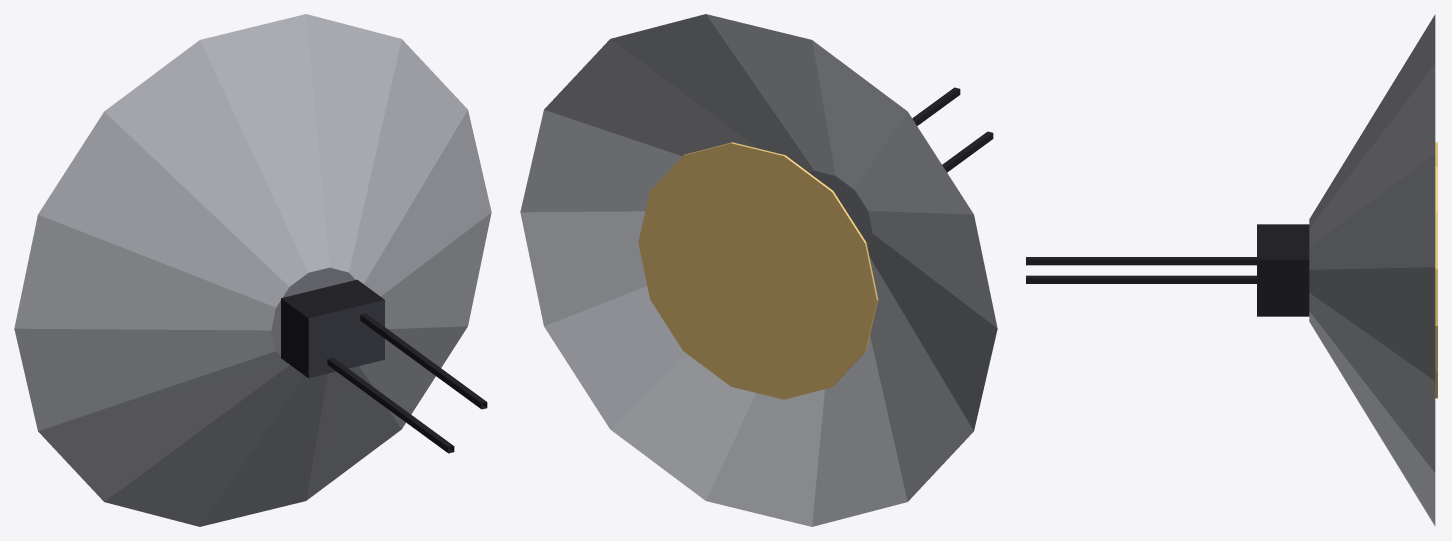
The model's file is b_lamp_lpro.obj.
The picture shows the model from 3 angles, left to right: view 1: azimuth 30°, elevation 25°; view 2: azimuth 150°, elevation 25°; view 3: azimuth 270°, elevation 25°; orthographic projection. The views are drawn at different scales.
Size of the model in its own units: 1 by 0.975 by 0.785.
Materials: 1 (1 with a texture image).
